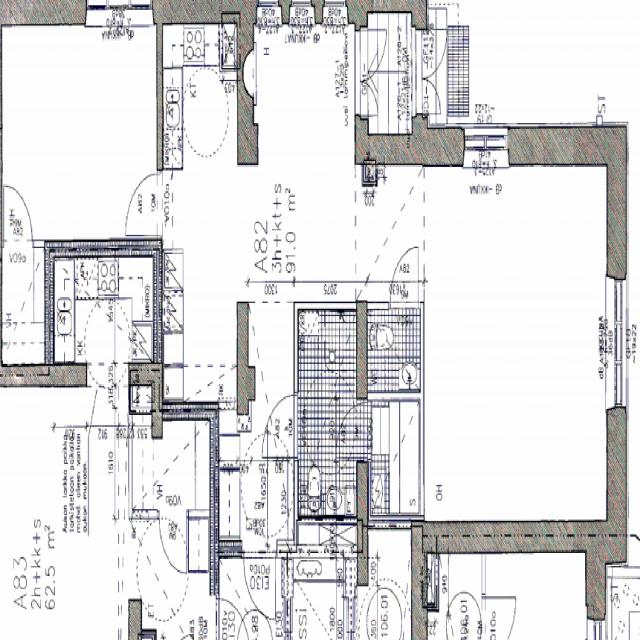door: (243, 539, 275, 619), (125, 174, 162, 236), (262, 393, 298, 456), (329, 404, 367, 458), (413, 29, 452, 78), (355, 31, 393, 81), (2, 185, 32, 248), (391, 248, 418, 310), (412, 78, 446, 114), (355, 82, 385, 118)
